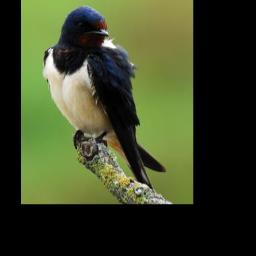Swallow: (42, 4, 168, 192)
